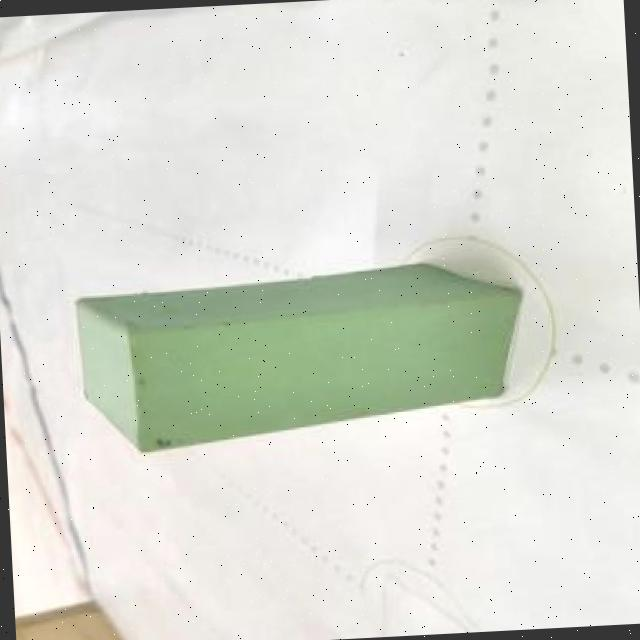greenbox: (71, 254, 532, 456)
